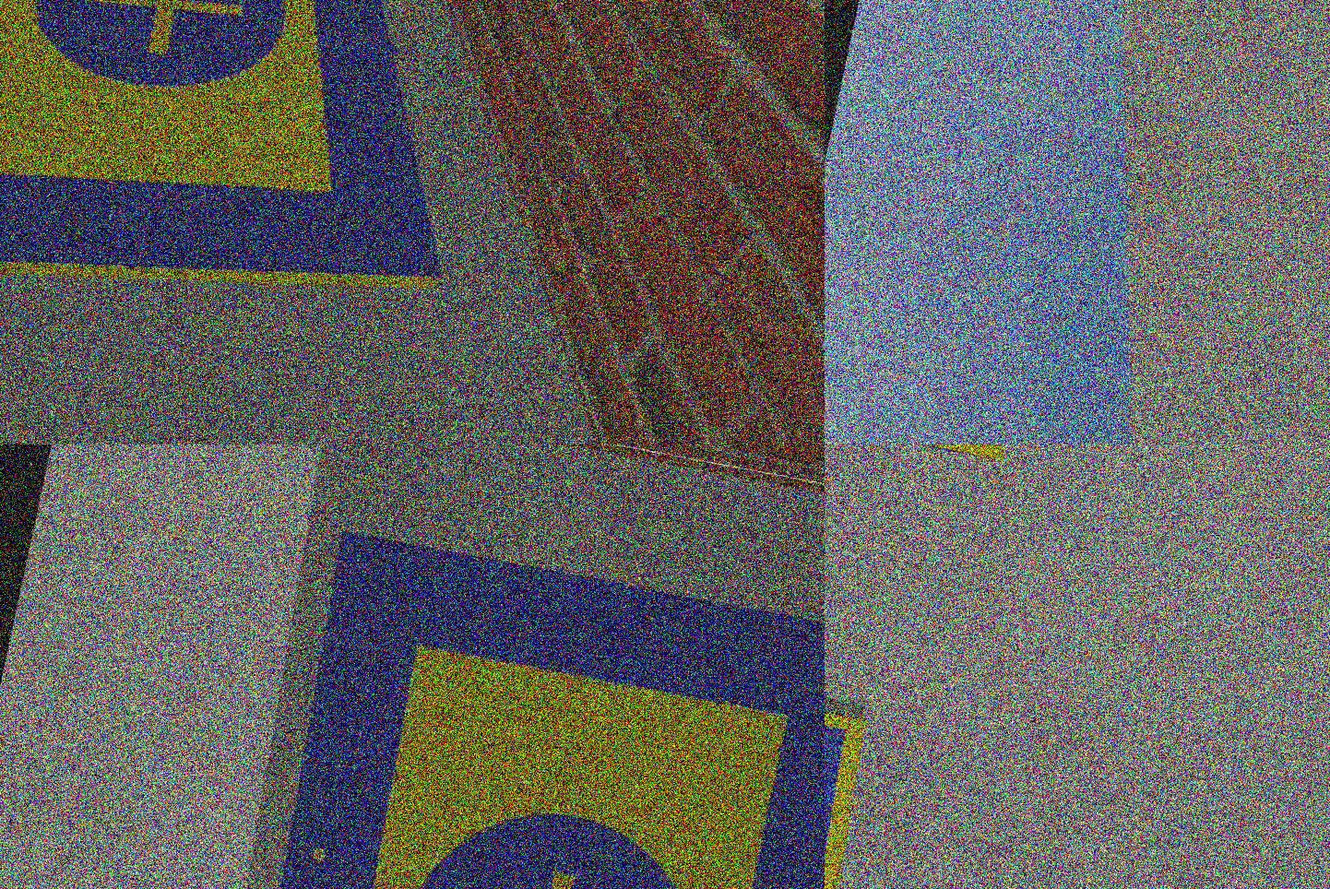large_base: (232, 521, 825, 889), (1, 1, 526, 398)
small_base: (825, 676, 874, 889)
